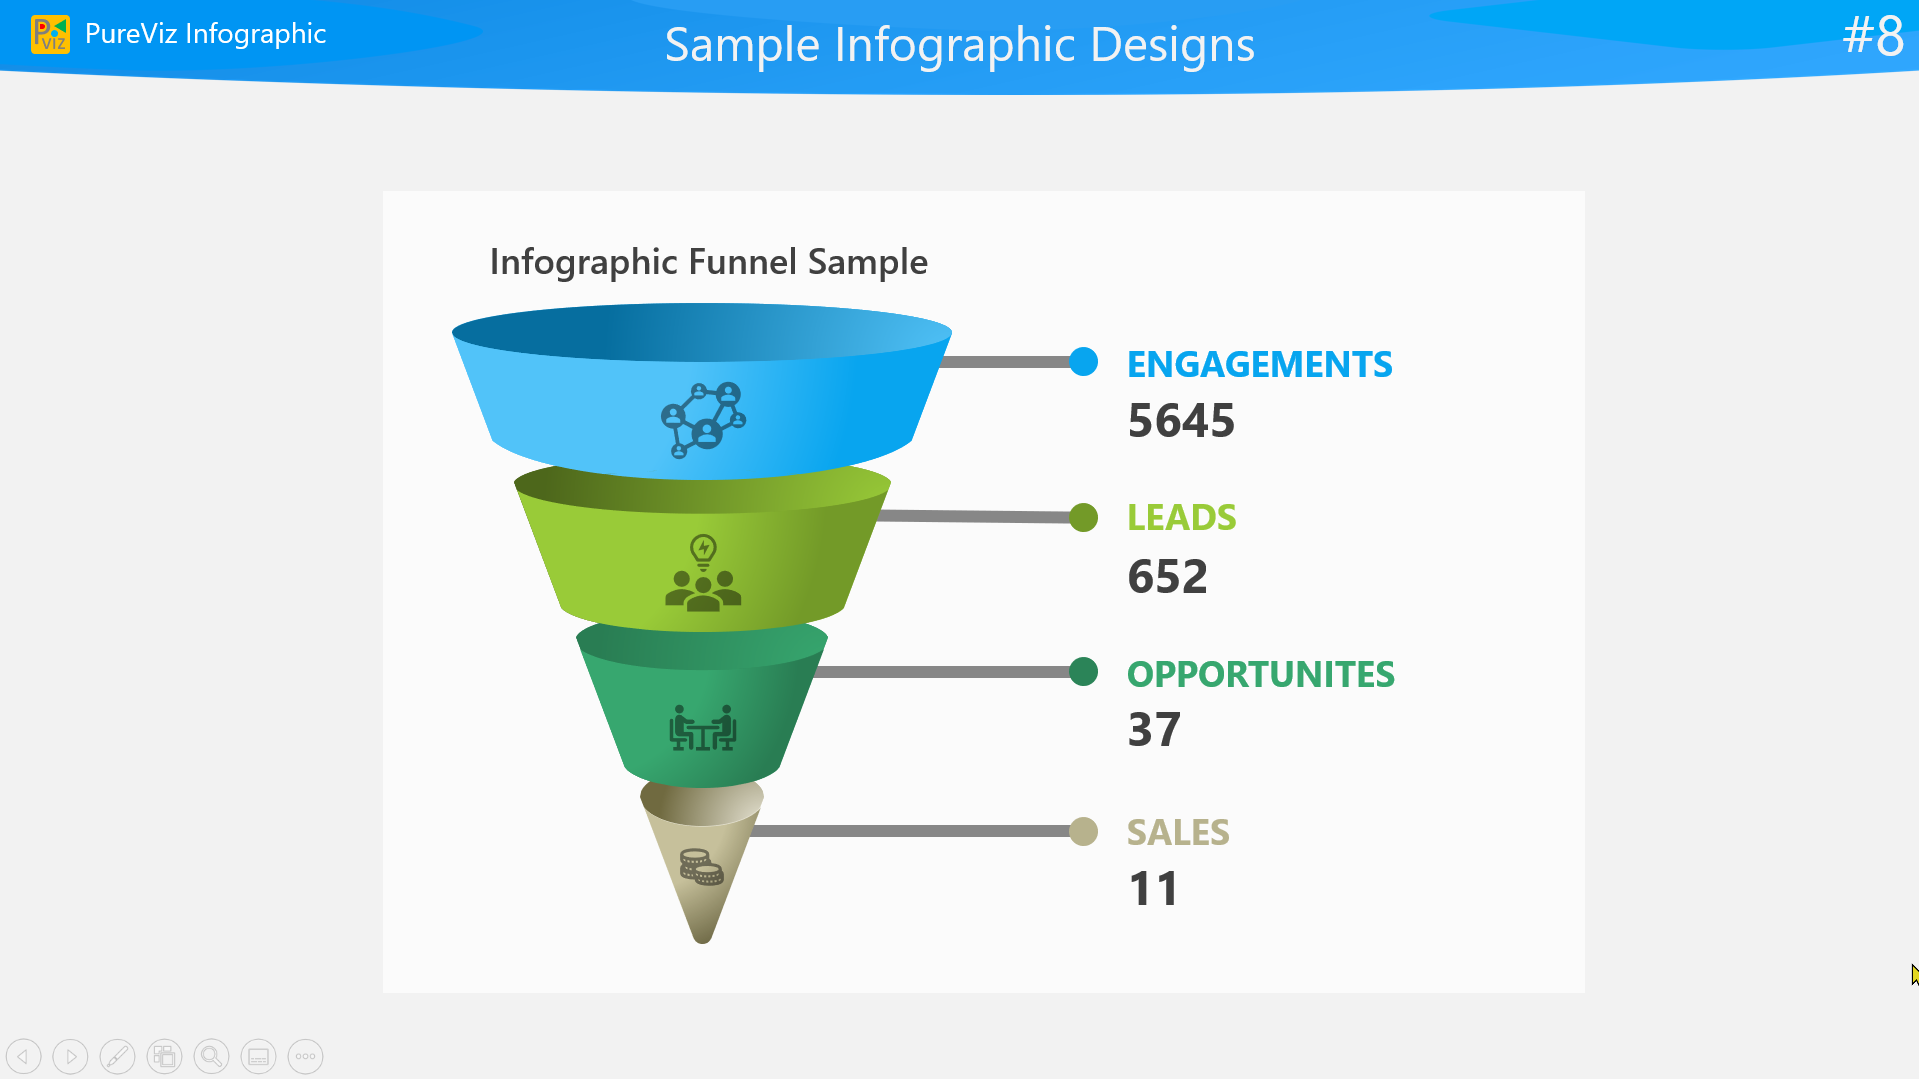

Layout of this report page (visuals, bound fields, positions):
{"tool":"powerbi","page":{"name":"8","canvas":[1280,720],"ordinal":7},"visuals":[{"type":"slicer","fields":{"Values":["financials.Product"]},"box":[36.4,112.8,167.4,167.4],"z":0},{"type":"pureVizInfographicC9801BF222134D2D83FA9C41861F3482","fields":{"dataset":["Sum(financials.Budget)","Sum(financials. Sales)","Min(financials.Country)","Sum(financials.Quantity)","financials.VTB","financials.YoY","Min(financials.Product)","financials.Eficiency %","Count(financials.Product)"]},"box":[254.5,112.6,744.6,463.2],"z":1000},{"type":"actionButton","box":[1072,654,208,57.1],"z":2000},{"type":"actionButton","box":[0,654,233.2,57.1],"z":3000},{"type":"actionButton","box":[299.9,654,681.1,57.1],"z":4000}]}

Visuals, with their boxes on the page's 1280x720 design canvas (x1, y1, x2, y2). These are canvas units, not pixel positions in the 1919x1079 screenshot, which may show the page scaled, cropped or inside an application window:
slicer - financials.Product: crop(36, 113, 204, 280)
pureVizInfographicC9801BF222134D2D83FA9C41861F3482 - Sum(financials.Budget) x Sum(financials. Sales): crop(254, 113, 999, 576)
actionButton: crop(1072, 654, 1280, 711)
actionButton: crop(0, 654, 233, 711)
actionButton: crop(300, 654, 981, 711)
